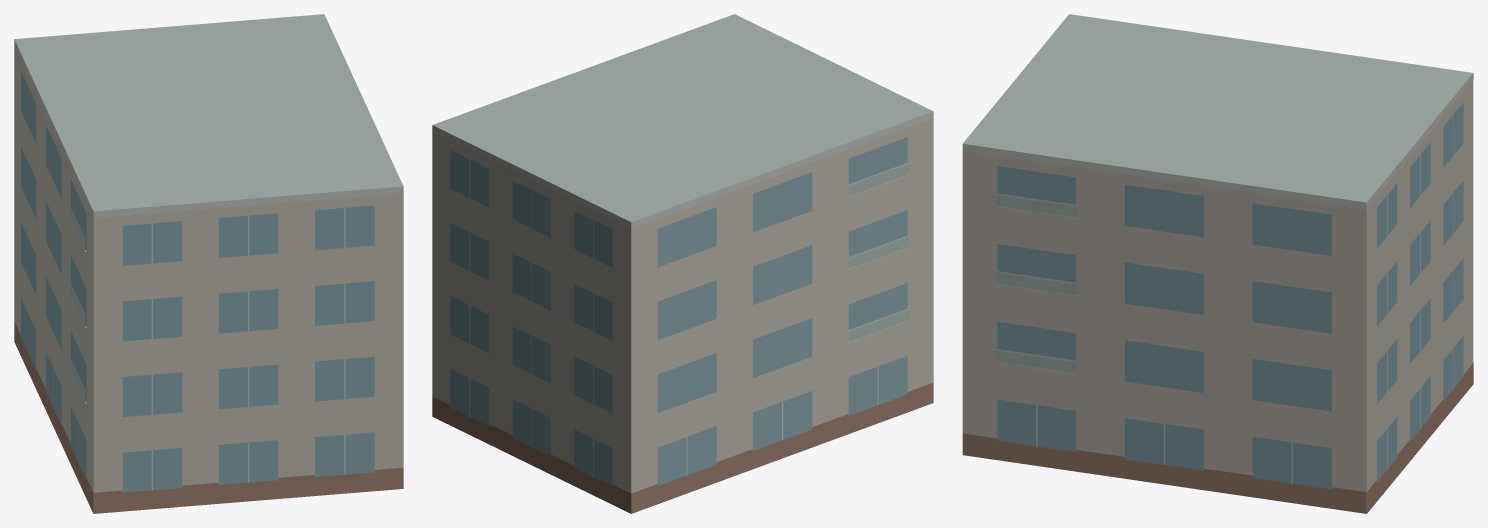
The model's file is survey-upis-32872881.glb.
The picture shows the model from 3 angles, left to right: view 1: azimuth 30°, elevation 25°; view 2: azimuth 150°, elevation 25°; view 3: azimuth 270°, elevation 25°; orthographic projection. The views are drawn at different scales.
Visible parts, largest first — view 1: survey-upis-32872881.tmp; view 2: survey-upis-32872881.tmp; view 3: survey-upis-32872881.tmp.
Part boxes in pixels (x1=…): survey-upis-32872881.tmp: x1=14, y1=14, x2=403, y2=513; survey-upis-32872881.tmp: x1=432, y1=14, x2=933, y2=513; survey-upis-32872881.tmp: x1=962, y1=14, x2=1473, y2=513.
Bounding box in the file's own units: 14.1 × 10.85 × 16.15.
